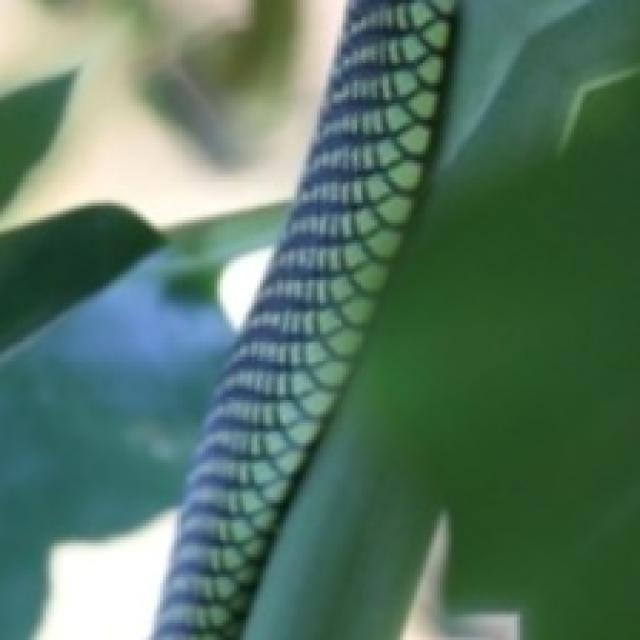paradise tree snake: (154, 0, 451, 637)
